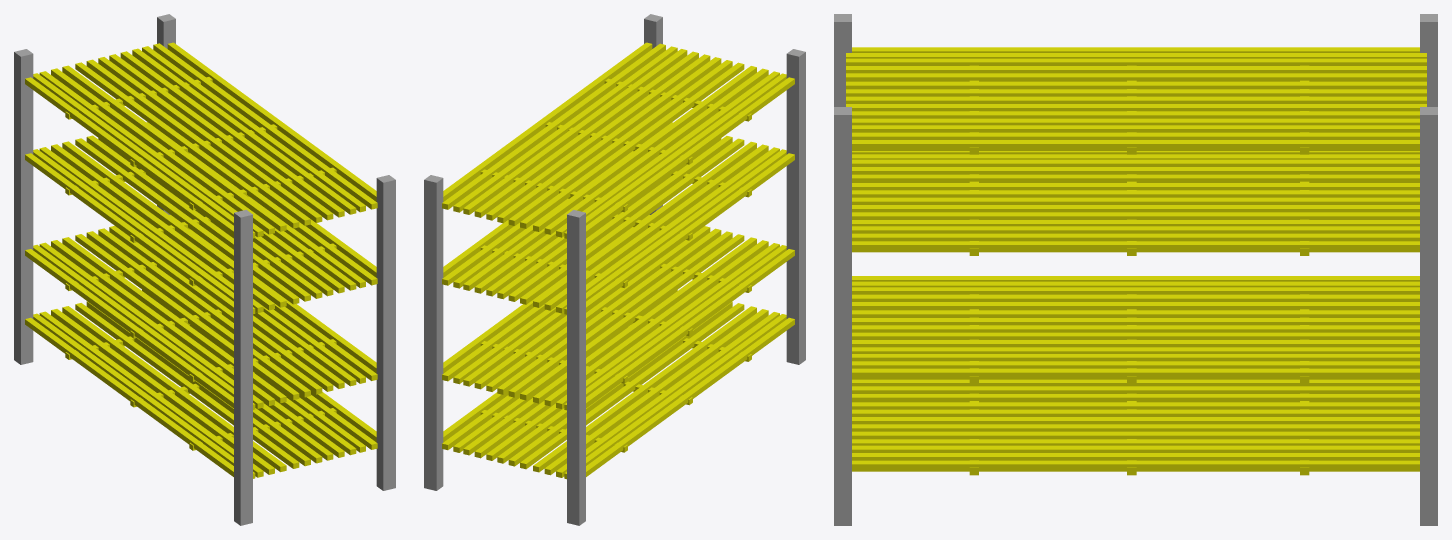
The model's file is shelves_ATHM.fbx.
The picture shows the model from 3 angles, left to right: view 1: azimuth 30°, elevation 25°; view 2: azimuth 150°, elevation 25°; view 3: azimuth 270°, elevation 25°; orthographic projection. The views are drawn at different scales.
Visible parts, largest first — view 1: pCube4, pCube3, pCube2, pCube66, pCube58, pCube57, pCube67, pCube72, pCube62, pCube70, pCube56, pCube69 (+48 smaller); view 2: pCube1, pCube2, pCube3, pCube66, pCube72, pCube58, pCube57, pCube67, pCube70, pCube62, pCube56, pCube69 (+48 smaller); view 3: pCube1, pCube4, pCube7, pCube30, pCube47, pCube64, pCube67, pCube66, pCube50, pCube11, pCube33, pCube45 (+46 smaller).
Boxes of the visible parts, <box> form: pCube4: <box>376,175,395,490</box>; pCube3: <box>234,209,252,525</box>; pCube2: <box>14,49,33,364</box>; pCube66: <box>75,62,299,228</box>; pCube58: <box>132,48,356,214</box>; pCube57: <box>120,51,344,217</box>; pCube67: <box>62,65,286,231</box>; pCube72: <box>98,57,322,222</box>; pCube62: <box>153,43,377,209</box>; pCube70: <box>86,59,310,225</box>; pCube56: <box>109,54,333,220</box>; pCube69: <box>51,68,274,234</box>; pCube1: <box>424,175,443,490</box>; pCube2: <box>567,209,585,525</box>; pCube3: <box>786,49,805,364</box>; pCube66: <box>520,62,744,228</box>; pCube72: <box>497,57,721,223</box>; pCube58: <box>463,49,687,214</box>; pCube57: <box>474,51,698,217</box>; pCube67: <box>533,66,756,231</box>; pCube70: <box>508,60,732,225</box>; pCube62: <box>442,43,665,209</box>; pCube56: <box>486,54,710,220</box>; pCube69: <box>544,68,768,234</box>; pCube1: <box>1420,107,1437,525</box>; pCube4: <box>834,107,851,525</box>; pCube7: <box>852,460,1419,471</box>; pCube30: <box>852,368,1419,379</box>; pCube47: <box>852,241,1419,252</box>; pCube64: <box>852,140,1419,150</box>; pCube67: <box>846,73,1426,81</box>; pCube66: <box>846,81,1426,89</box>; pCube50: <box>852,174,1419,182</box>; pCube11: <box>852,431,1419,439</box>; pCube33: <box>852,302,1419,310</box>; pCube45: <box>852,233,1419,241</box>.
Size of the model in its own units: 163 by 310 by 412.
